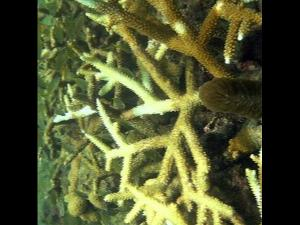bleached_corals: (38, 0, 262, 225)
